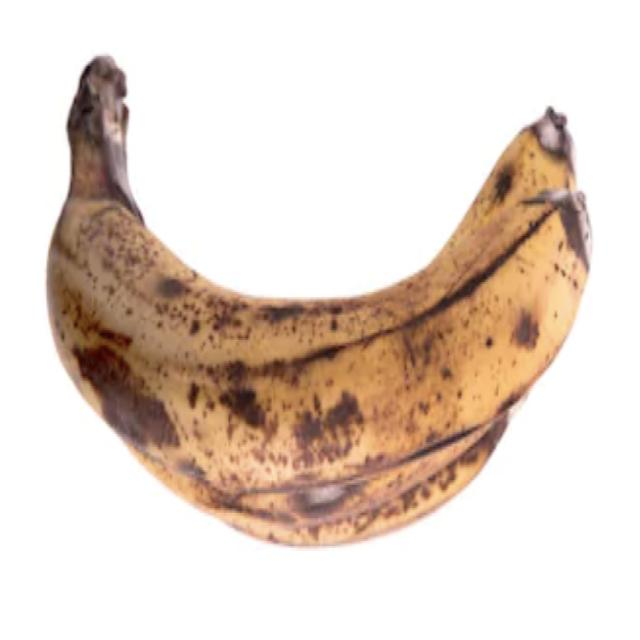rotten-banana: (44, 51, 593, 548)
